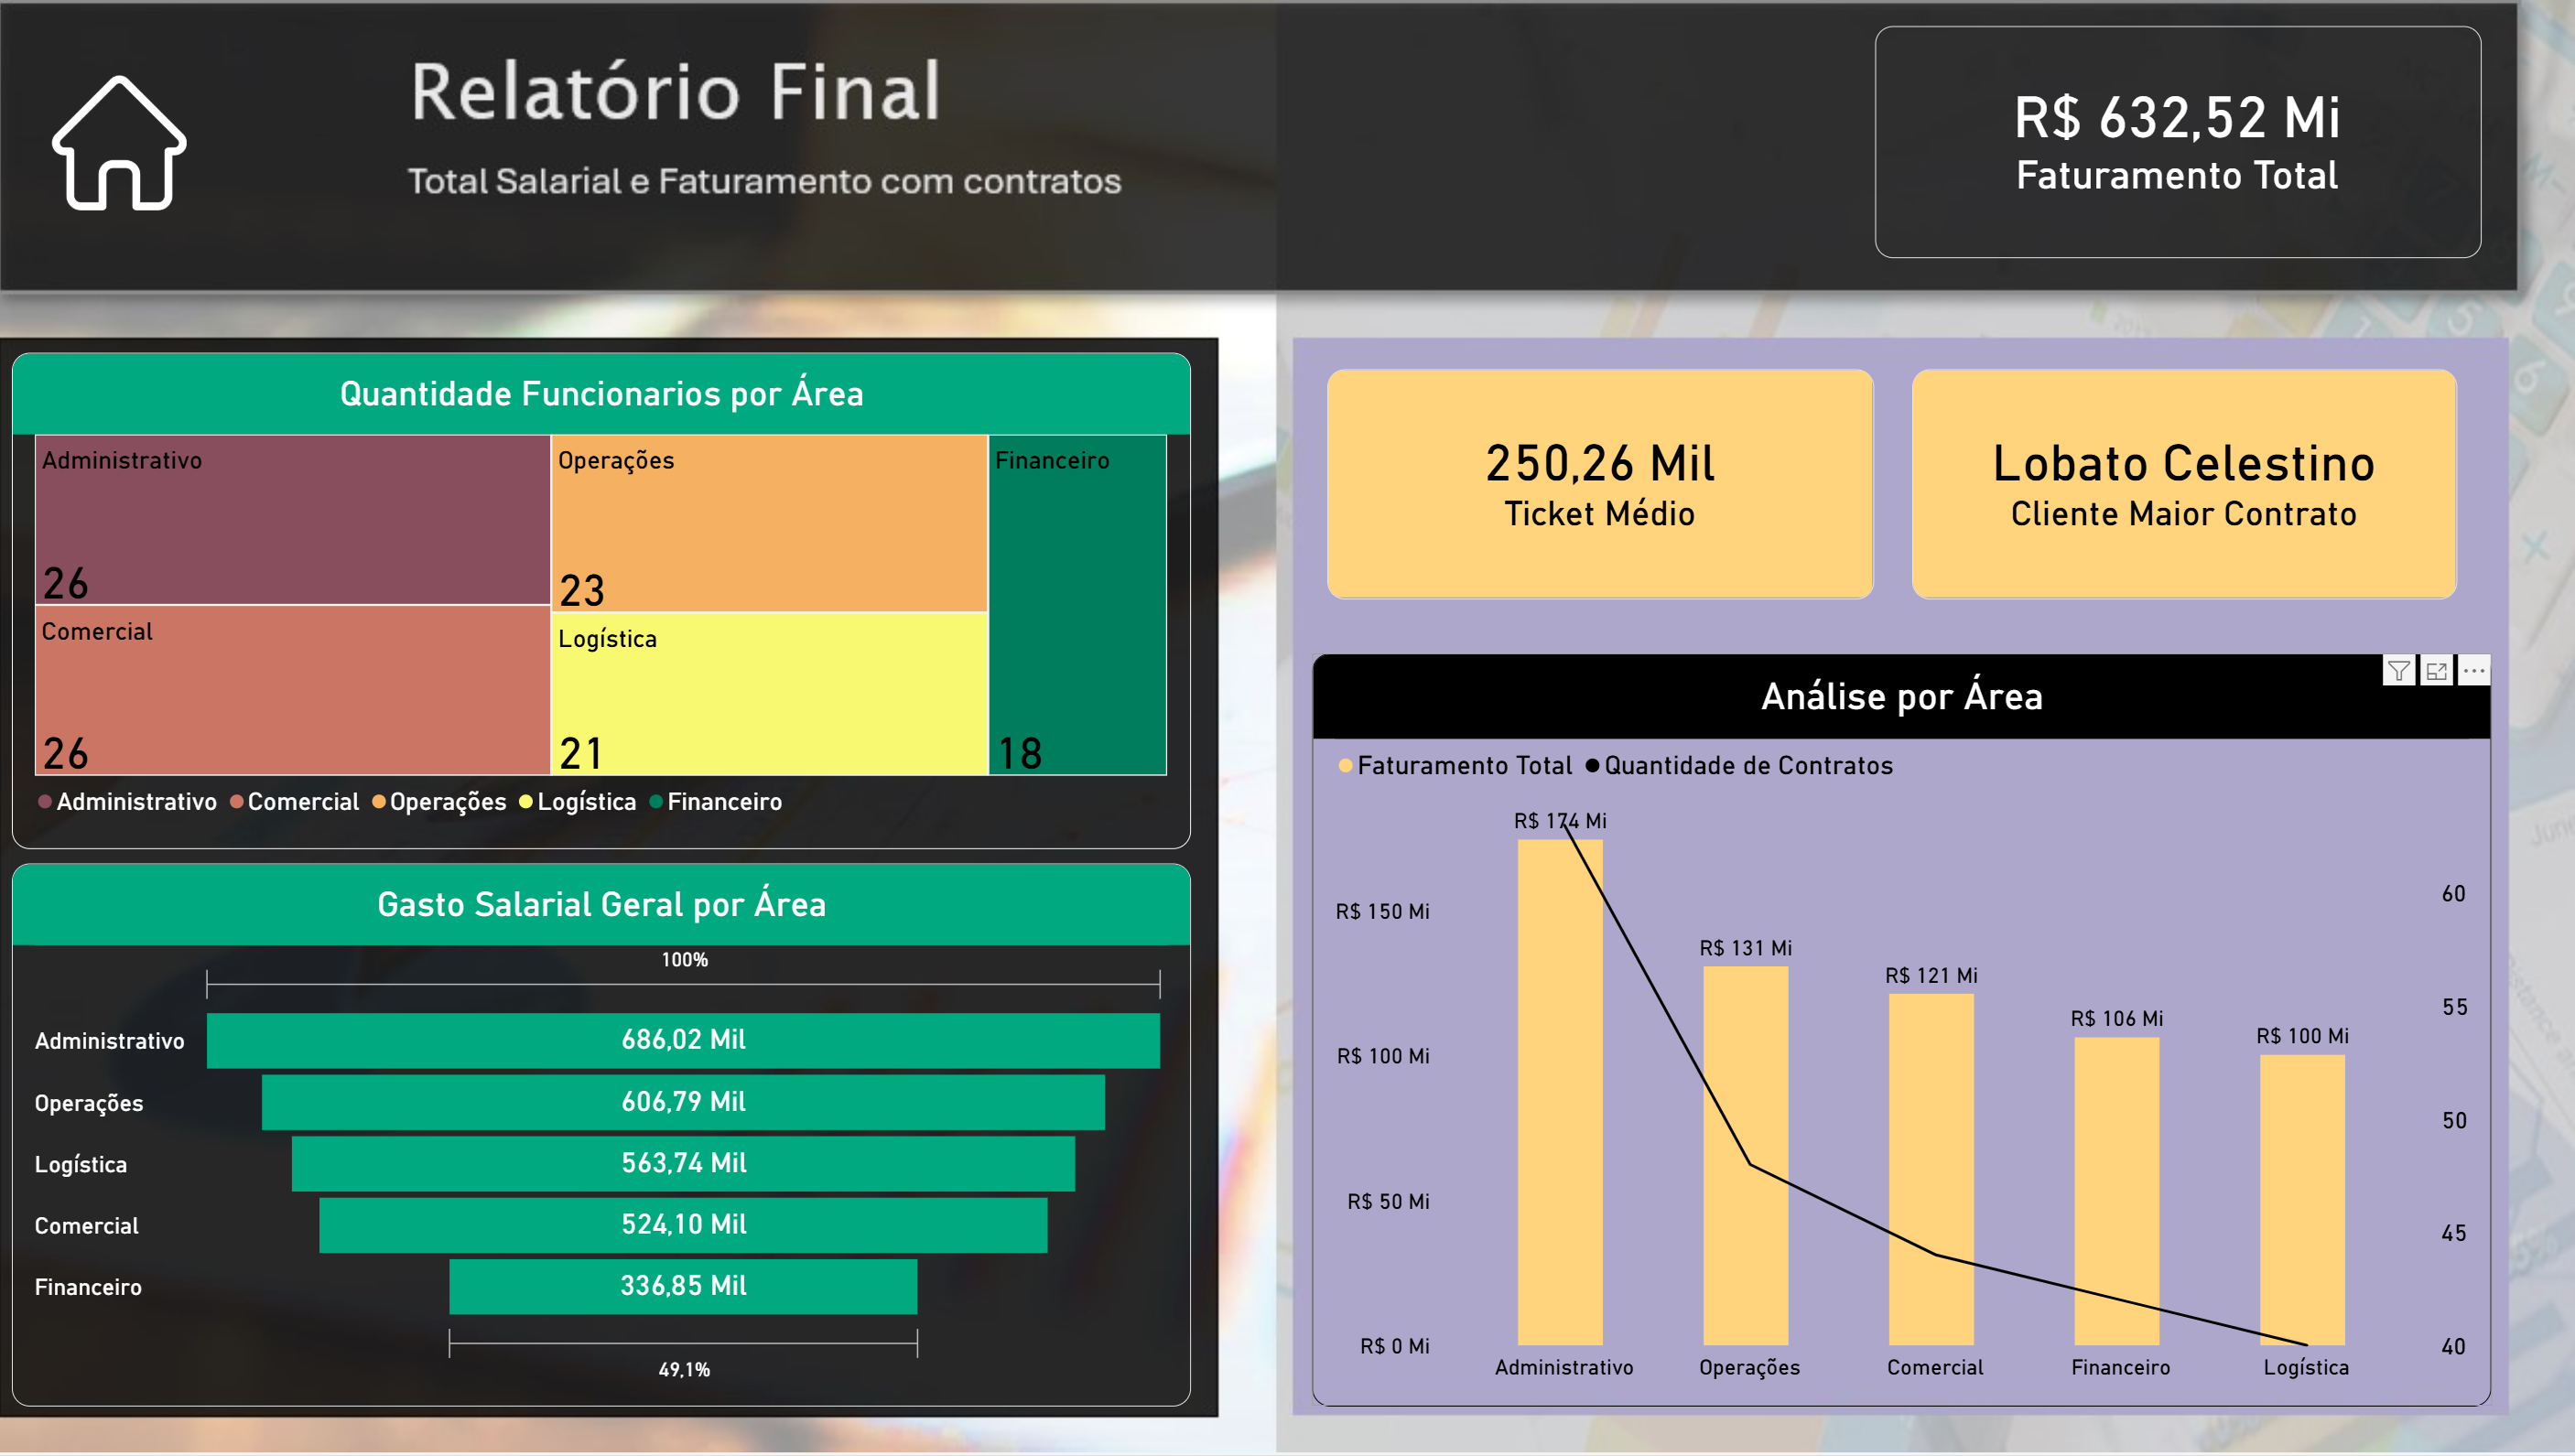

The page's visual inventory and layout, read from the dashboard file:
{"tool":"powerbi","page":{"name":"Relatório","canvas":[1920,1080],"ordinal":1},"visuals":[{"type":"funnel","fields":{"Category":["CadastroCargo.Área"],"Y":["Medidas.Gasto Salarial Geral"]},"box":[58.2,649.7,856.6,394.6],"z":0},{"type":"treemap","fields":{"Group":["CadastroCargo.Área"],"Values":["Medidas.Qtd Funcionarios"]},"box":[58.2,278.2,856.6,360.5],"z":1000},{"type":"cardVisual","fields":{"Data":["Medidas.Faturamento Total"]},"box":[1411.4,40.7,440.4,168.4],"z":2000},{"type":"cardVisual","fields":{"Data":["Medidas.Ticket Médio"]},"box":[1013.9,290.6,397.4,167.3],"z":3000},{"type":"cardVisual","fields":{"Data":["Medidas.Cliente Maior Contrato"]},"box":[1438.9,290.6,396.3,167.3],"z":4000},{"type":"lineStackedColumnComboChart","title":"Análise por Área","fields":{"Category":["CadastroCargo.Área"],"Y":["Medidas.Faturamento Total"],"Y2":["Medidas.Quantidade de Contratos"]},"box":[1002.9,496.5,856.5,547.2],"z":4001},{"type":"image","box":[84.8,77.1,102.4,98],"z":4002}]}

Visuals, with their boxes in screenshot pixels (x1, y1, x2, y2), scaled from the page's 1920x1080 canvas onto the 2575x1456 screenshot:
funnel - CadastroCargo.Área x Medidas.Gasto Salarial Geral: {"left": 78, "top": 876, "right": 1227, "bottom": 1407}
treemap - CadastroCargo.Área x Medidas.Qtd Funcionarios: {"left": 78, "top": 375, "right": 1227, "bottom": 861}
cardVisual - Medidas.Faturamento Total: {"left": 1893, "top": 55, "right": 2483, "bottom": 282}
cardVisual - Medidas.Ticket Médio: {"left": 1359, "top": 392, "right": 1893, "bottom": 618}
cardVisual - Medidas.Cliente Maior Contrato: {"left": 1930, "top": 392, "right": 2461, "bottom": 618}
"Análise por Área" lineStackedColumnComboChart: {"left": 1345, "top": 669, "right": 2494, "bottom": 1407}
image: {"left": 114, "top": 104, "right": 251, "bottom": 236}
